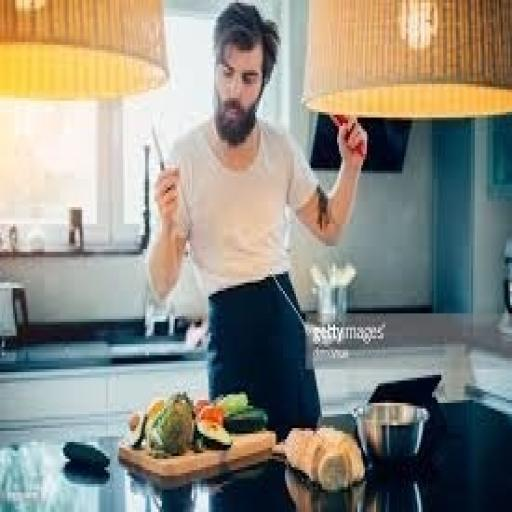listening_to_music: (145, 0, 370, 436)
